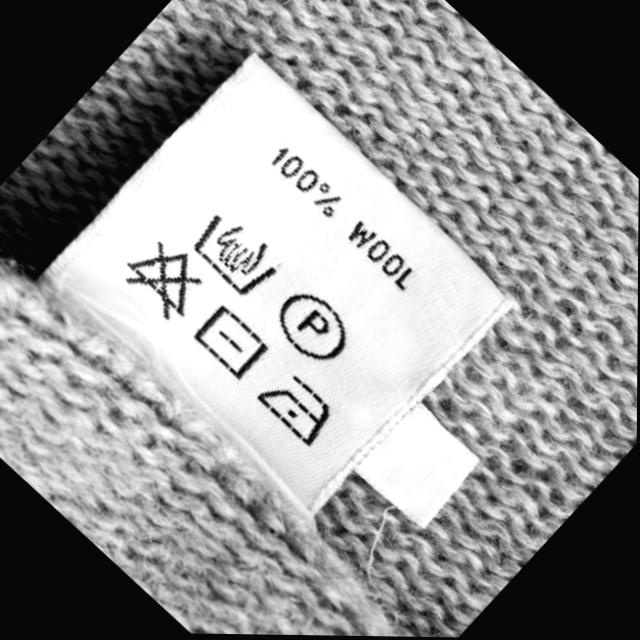DN_bleach: (123, 241, 198, 321)
dry_clean_any_solvent_except_trichloroethylene: (277, 286, 347, 363)
dry_flat: (190, 302, 266, 383)
hand_wash: (194, 210, 277, 296)
iron_low: (255, 365, 338, 445)
